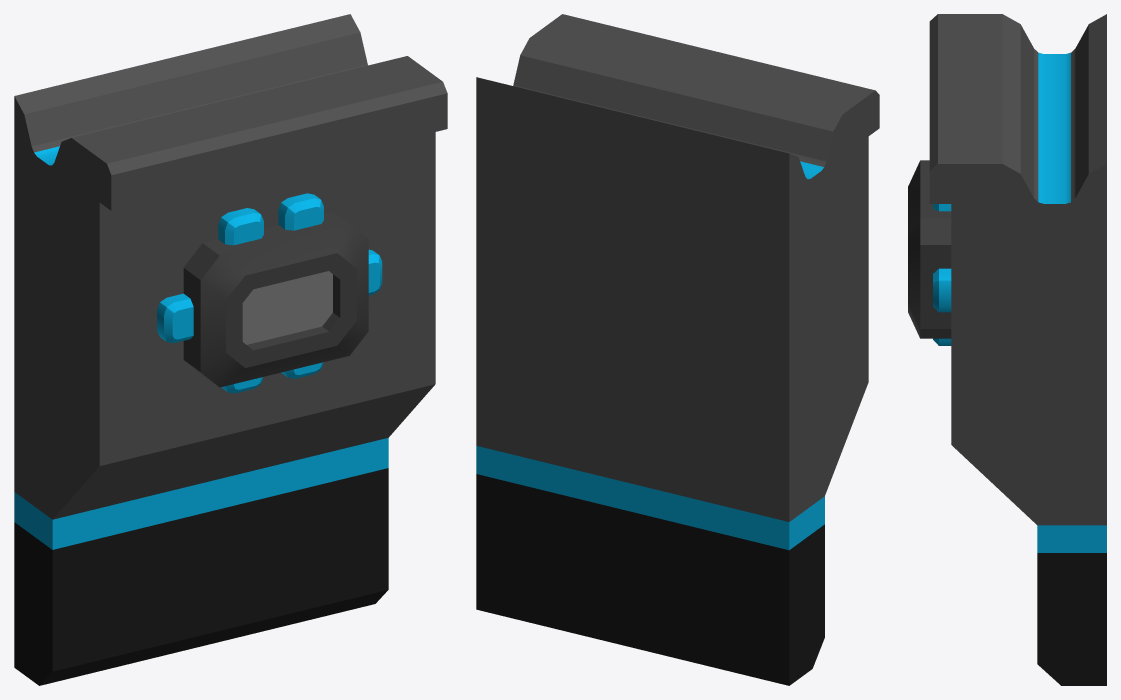
File: Floor_Edge_01x2D.fbx
The picture shows the model from 3 angles, left to right: view 1: azimuth 30°, elevation 25°; view 2: azimuth 150°, elevation 25°; view 3: azimuth 270°, elevation 25°; orthographic projection. The views are drawn at different scales.
Parts seen in each view (by area): view 1: Floor_Edge_01x2D; view 2: Floor_Edge_01x2D; view 3: Floor_Edge_01x2D.
Boxes of the visible parts, x1,y1,x2,y2 form: Floor_Edge_01x2D: [14, 14, 447, 685]; Floor_Edge_01x2D: [476, 14, 879, 685]; Floor_Edge_01x2D: [908, 14, 1106, 685].
Size of the model in its own units: 400 by 650 by 224.
